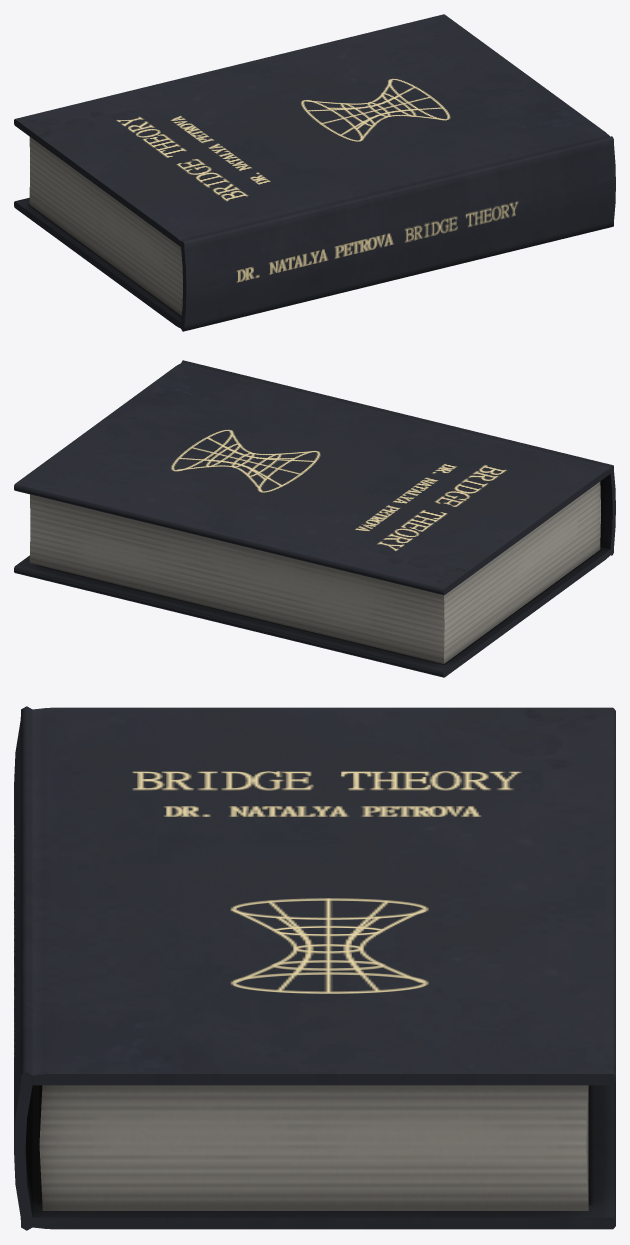
The model's file is BridgeTheory.fbx.
3 views of the same model, one above another, from view 1: azimuth 30°, elevation 25°; view 2: azimuth 150°, elevation 25°; view 3: azimuth 270°, elevation 25° (orthographic). The views are drawn at different scales.
Visible parts, largest first — view 1: book_a; view 2: book_a; view 3: book_a.
Part boxes in pixels (<box>): book_a: <box>14,14,615,331</box>; book_a: <box>14,360,615,677</box>; book_a: <box>14,706,615,1230</box>.
Size of the model in its own units: 2010 by 406 by 1397.
